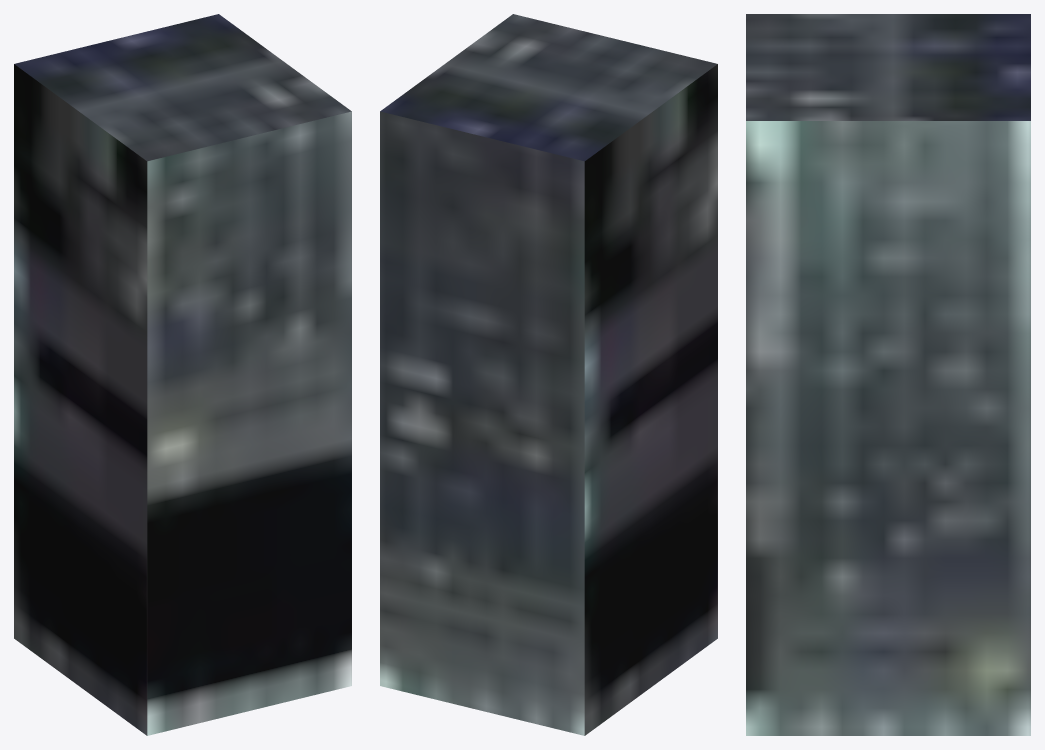
File: night-3.glb
3 renders of one model, left to right at view 1: azimuth 30°, elevation 25°; view 2: azimuth 150°, elevation 25°; view 3: azimuth 270°, elevation 25°, orthographic. The views are drawn at different scales.
Bounding box in the file's own units: 2.48 × 6.65 × 2.79.
Materials: 1 (1 with a texture image).
